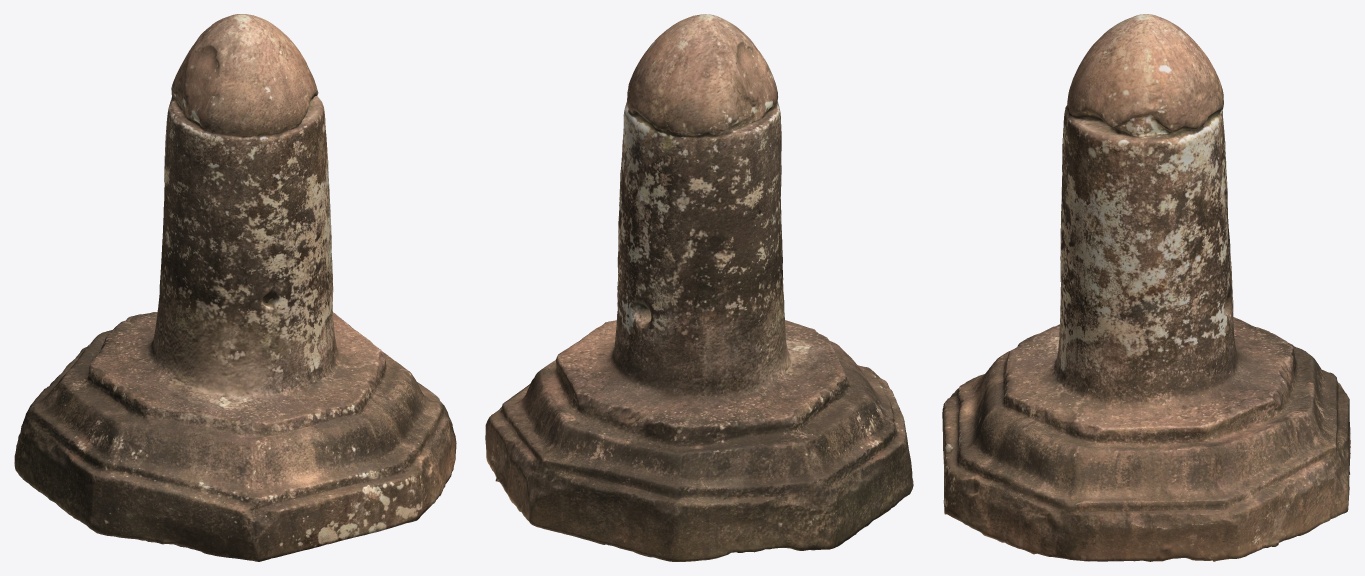
Rendered from 13_MysonSanctuaryB_vattrangtri_final.glb.
The picture shows the model from 3 angles, left to right: view 1: azimuth 30°, elevation 25°; view 2: azimuth 150°, elevation 25°; view 3: azimuth 270°, elevation 25°; orthographic projection. The views are drawn at different scales.
Bounding box in the file's own units: 1.09 × 1.34 × 1.07.
Materials: 1 (1 with a texture image).
